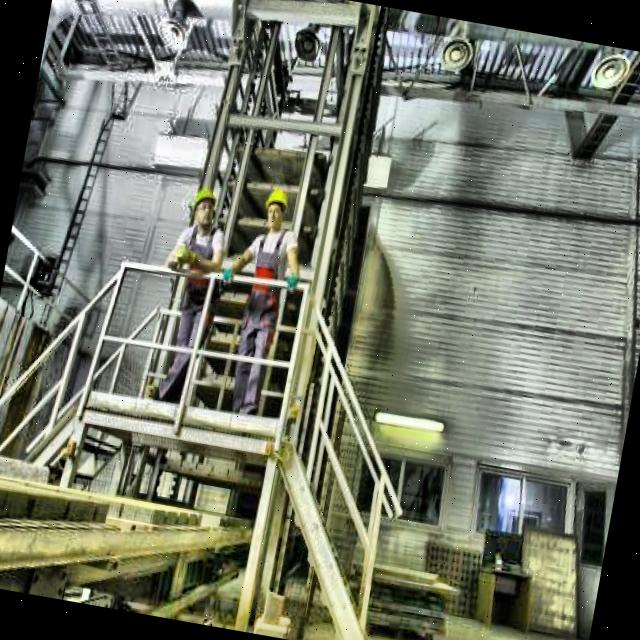helmet: (185, 181, 222, 231), (258, 184, 292, 232)
